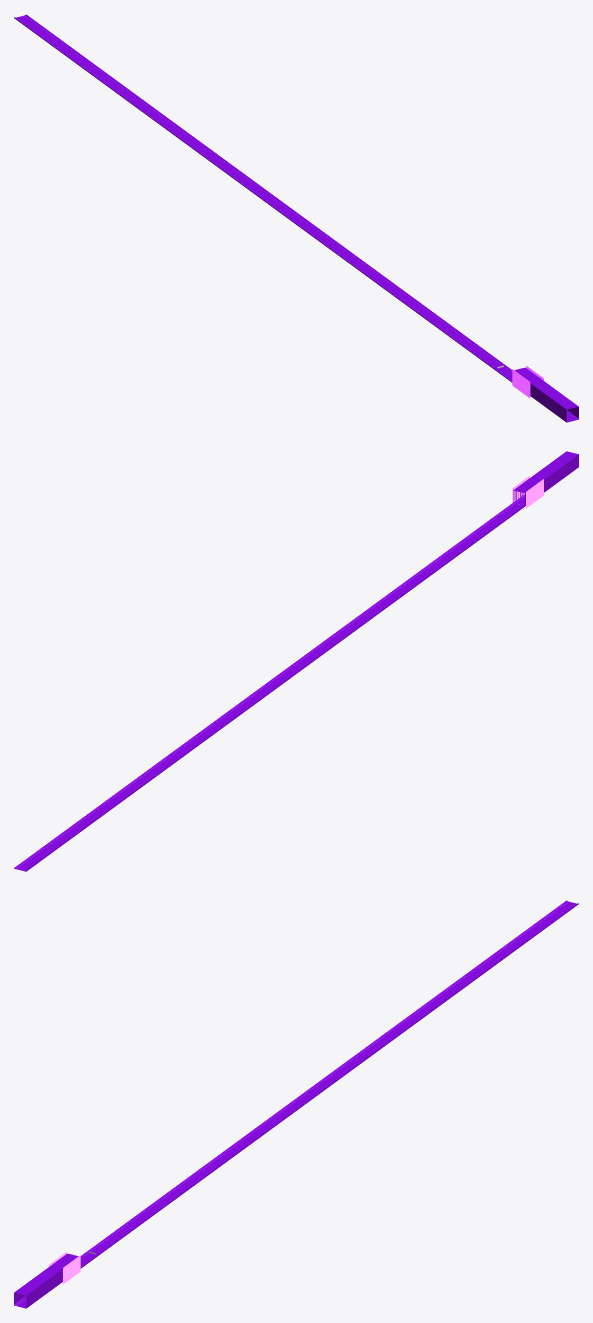
Rendered from VKZ_web_34.glb.
3 views of the same model, one above another, from view 1: azimuth 30°, elevation 25°; view 2: azimuth 150°, elevation 25°; view 3: azimuth 330°, elevation 25° (orthographic).
Parts seen in each view (by area): view 1: Floor_Object, Down_Full, Walls__Full, Walls_object; view 2: Floor_Object, Down_Full, Walls__Full, Walls_object; view 3: Floor_Object, Down_Full, Walls__Full, Walls_object.
Boxes of the visible parts, bbox=[...] form: Floor_Object: bbox=[16, 15, 576, 421]; Down_Full: bbox=[14, 14, 578, 422]; Walls__Full: bbox=[531, 380, 578, 422]; Walls_object: bbox=[14, 15, 553, 412]; Floor_Object: bbox=[16, 496, 525, 870]; Down_Full: bbox=[14, 494, 525, 871]; Walls__Full: bbox=[531, 451, 578, 492]; Walls_object: bbox=[22, 467, 577, 871]; Floor_Object: bbox=[16, 901, 576, 1307]; Down_Full: bbox=[14, 900, 578, 1308]; Walls__Full: bbox=[14, 1266, 61, 1308]; Walls_object: bbox=[37, 901, 578, 1300].
Bounding box in the file's own units: 4.47 × 5.21 × 310.
